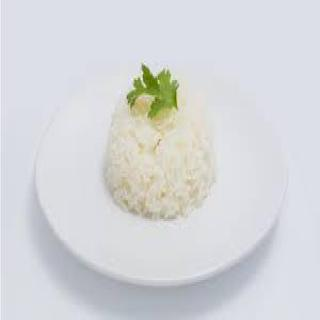Nasi: (102, 72, 219, 220)
